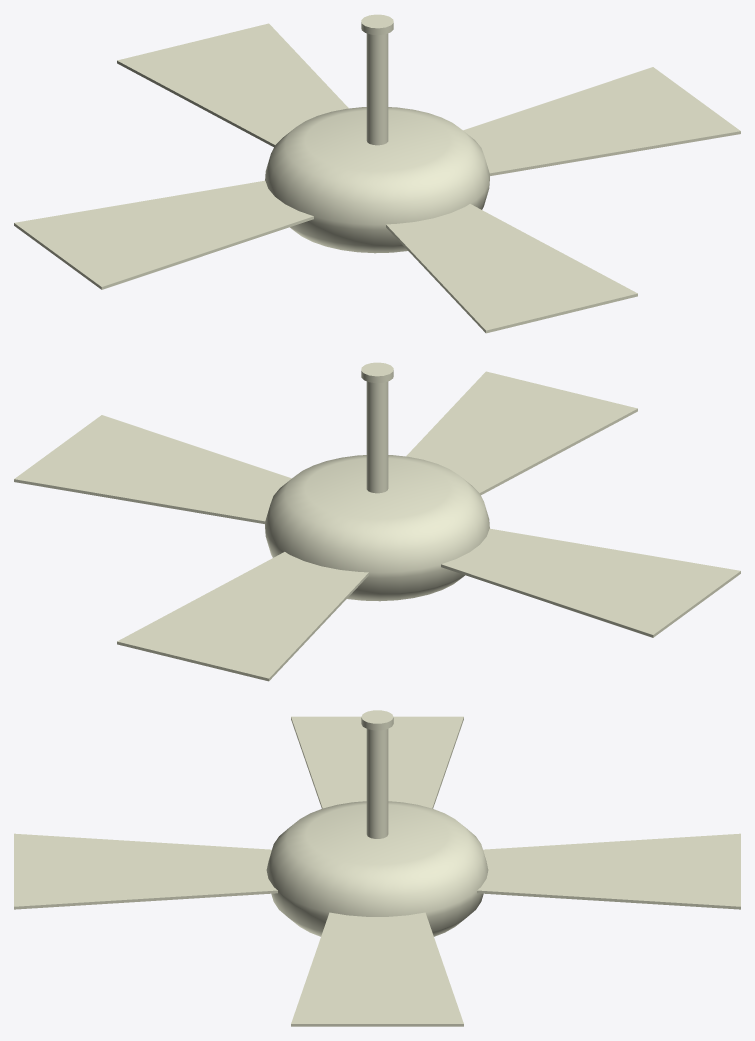
File: Fan.fbx
The picture shows the model from 3 angles, top to bottom: view 1: azimuth 30°, elevation 25°; view 2: azimuth 150°, elevation 25°; view 3: azimuth 270°, elevation 25°; orthographic projection.
Parts seen in each view (by area): view 1: Cylinder.016; view 2: Cylinder.016; view 3: Cylinder.016.
Boxes of the visible parts, x1=… form: Cylinder.016: x1=14, y1=14, x2=740, y2=333; Cylinder.016: x1=14, y1=362, x2=740, y2=681; Cylinder.016: x1=14, y1=710, x2=740, y2=1026.
Bounding box in the file's own units: 176 × 51.93 × 176.
